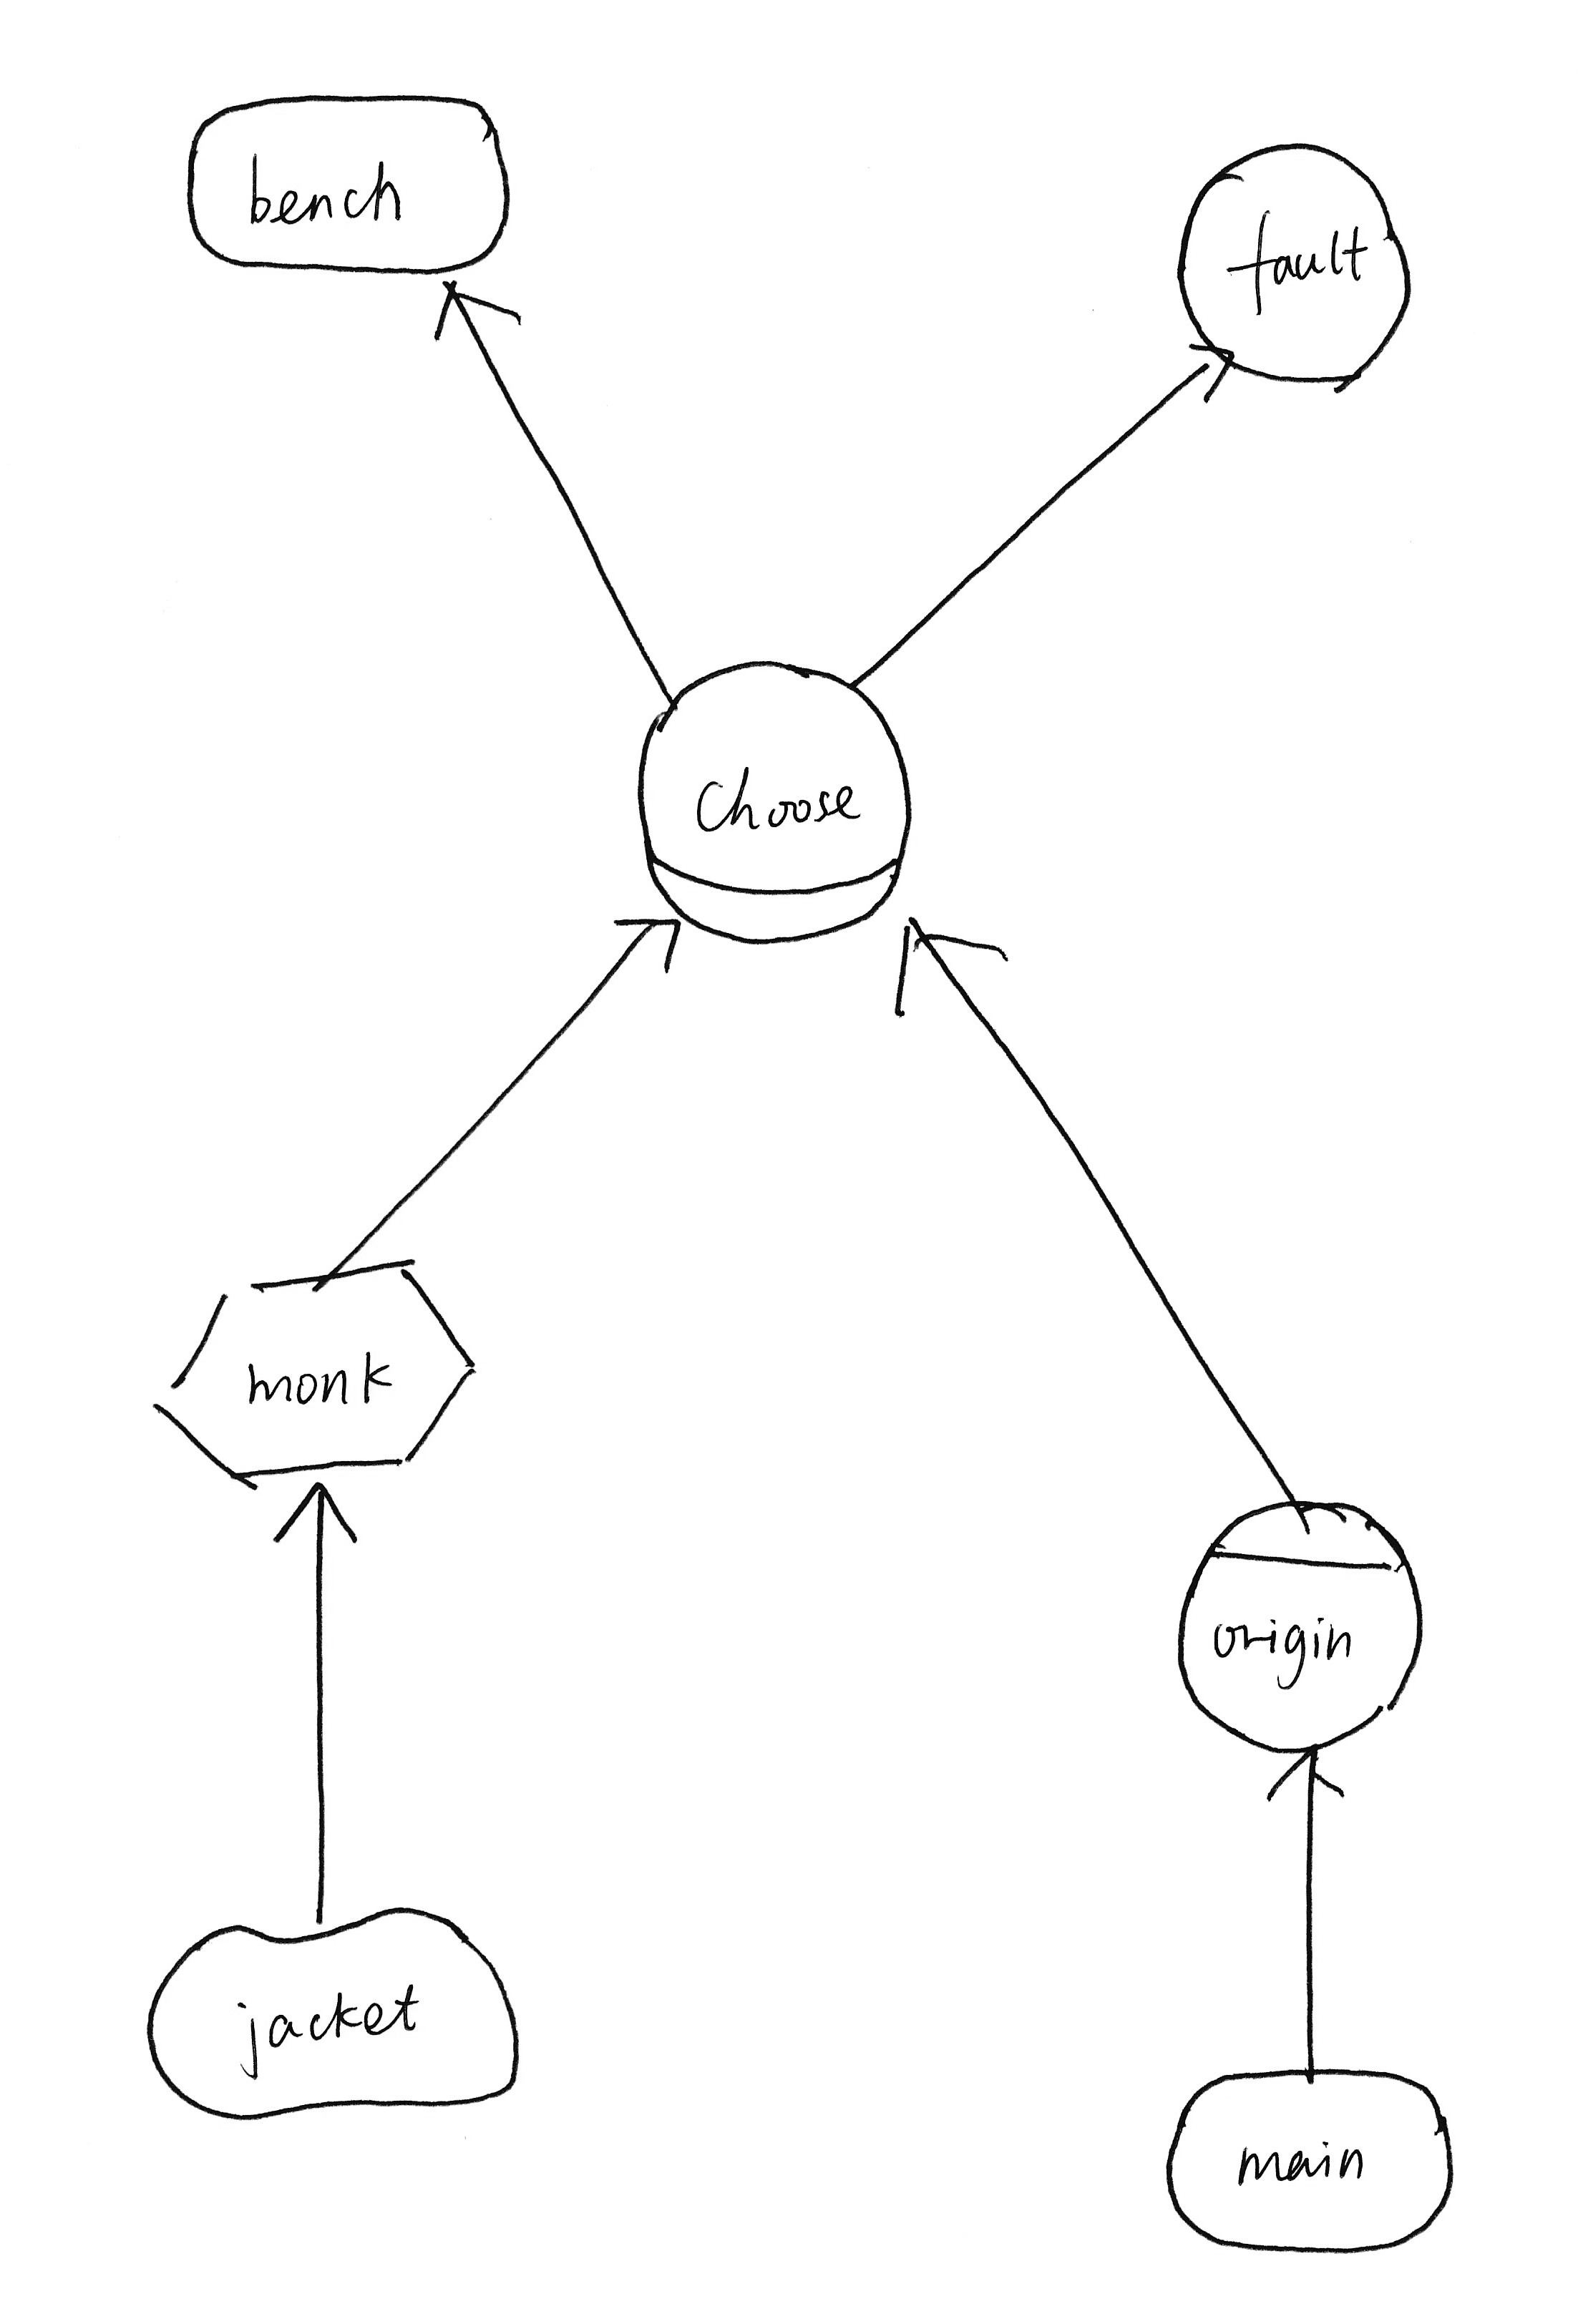actor: (1162, 125, 1434, 403)
agent: (1162, 1472, 1446, 1768)
arrow: (868, 898, 1021, 1033), (245, 1467, 377, 1570), (1242, 1731, 1368, 1828), (416, 268, 534, 363), (597, 903, 694, 997), (1154, 331, 1245, 424)
goal: (171, 69, 530, 303), (1148, 2049, 1476, 2262)
quality: (123, 1886, 546, 2136)
role: (622, 636, 926, 960)
task: (127, 1236, 497, 1507)
